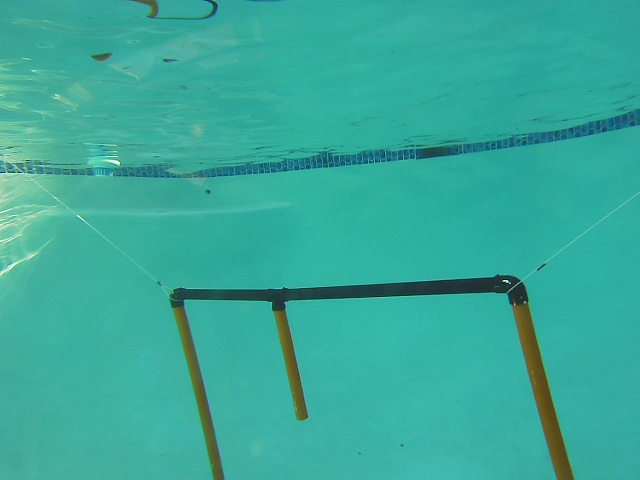Gate: (508, 302, 577, 480), (169, 304, 228, 480), (273, 305, 307, 426)
